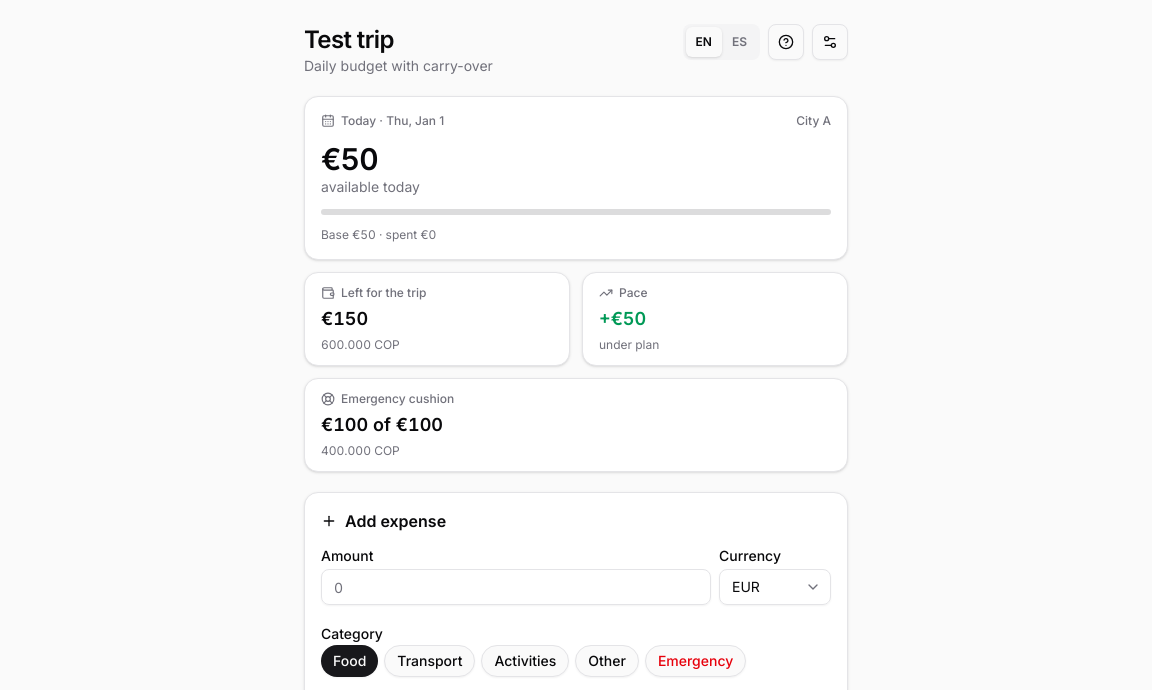
Scenario: live exchange rates in the app › applies live rates automatically when auto-update is on
The width and height of the screenshot is (1152, 690).
Click the button named "Trip settings".
click(830, 42)  # box [812,24,848,60]
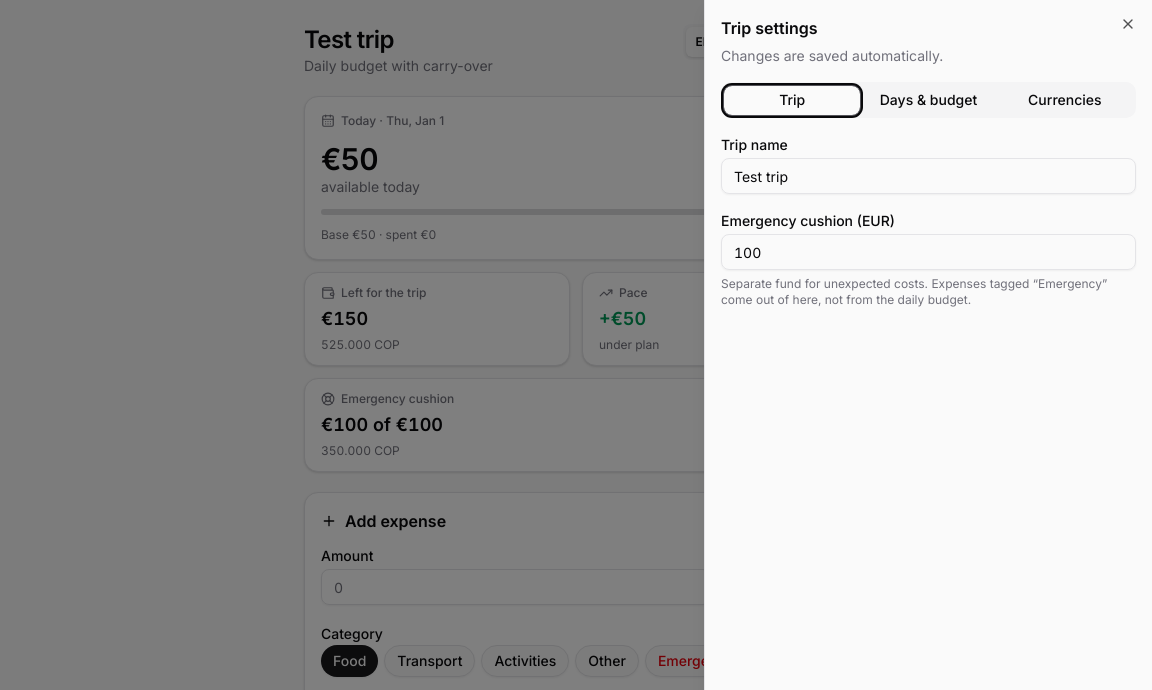
Click the tab "Currencies".
click(1065, 100)  # box [997,86,1133,114]
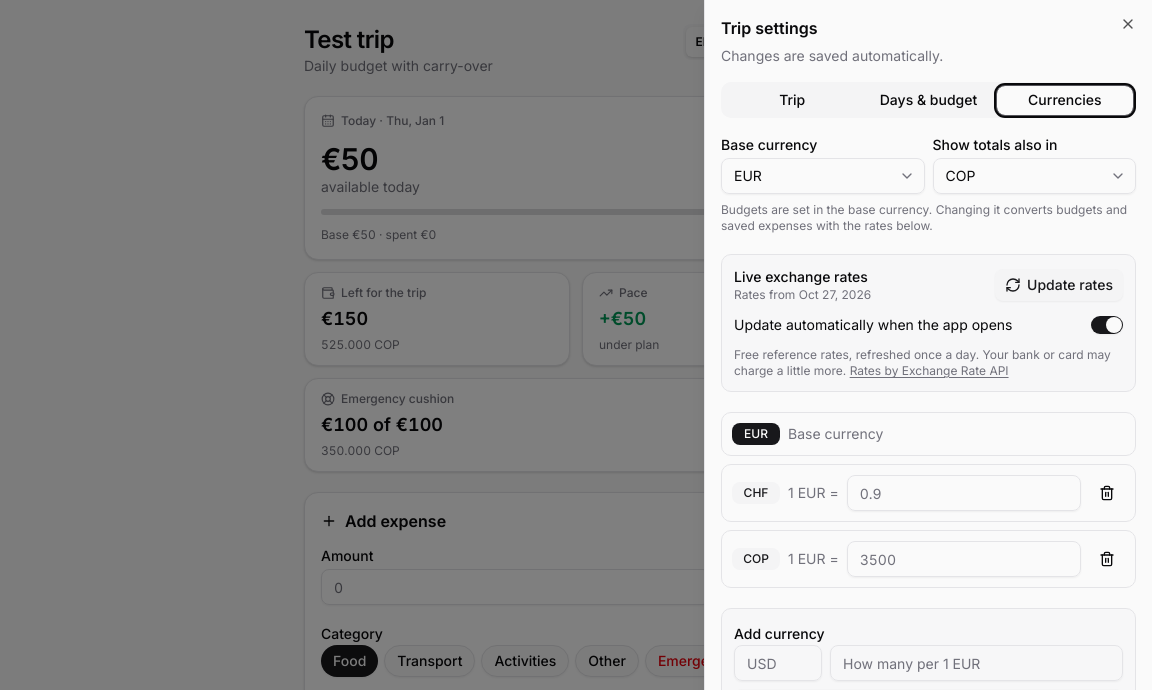
Check: the number field named "CHF per EUR" holds "0.9", box [847,475,1081,511]
Check: the number field named "COP per EUR" holds "3500", box [847,541,1081,577]
Check: the text with test id "rates-updated" reads "Rates from Oct 27, 2026", box [734,287,871,302]
